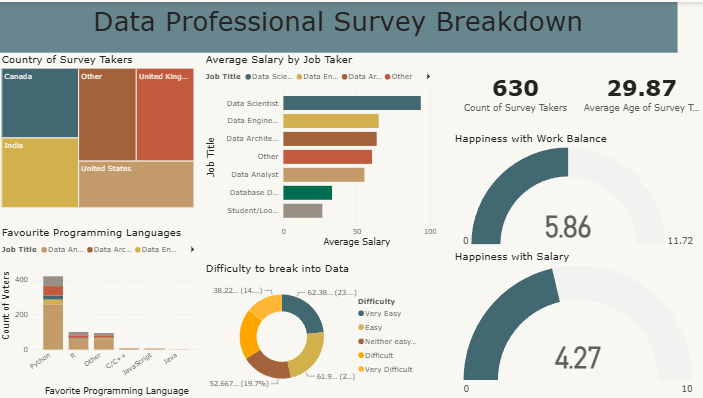

The dashboard page shown, as its layout file describes it:
{"tool":"powerbi","page":{"name":"Page 1","canvas":[1280,720],"ordinal":0},"visuals":[{"type":"textbox","box":[0,0,1232.1,92.3],"z":0},{"type":"card","fields":{"Values":["CountNonNull(Data Professional Survey.Unique ID)"]},"box":[822.5,92.6,230.6,143.4],"z":1000},{"type":"card","fields":{"Values":["Avg(Data Professional Survey.Q10 - Current Age)"]},"box":[1052.7,92.3,227.3,143.6],"z":2000},{"type":"barChart","title":"Average Salary by Job Taker","fields":{"Category":["Data Professional Survey.Q1 - Which Title Best Fits your Current Role?.1"],"Y":["Avg(Data Professional Survey.Average salary.1)"],"Series":["Data Professional Survey.Q1 - Which Title Best Fits your Current Role?.1"]},"box":[370.8,92.3,428.9,357.2],"z":3000},{"type":"columnChart","title":"Favourite Programming Languages","fields":{"Category":["Data Professional Survey.Q5 - Favorite Programming Language.1"],"Y":["CountNonNull(Data Professional Survey.Unique ID)"],"Series":["Data Professional Survey.Q1 - Which Title Best Fits your Current Role?.1"]},"box":[0,406.7,370.8,312.7],"z":4000},{"type":"treemap","title":"Country of Survey Takers","fields":{"Group":["Data Professional Survey.Q11 - Which Country do you live in?.1"],"Values":["Count(Data Professional Survey.Q11 - Which Country do you live in?.1)"]},"box":[0,92.3,358.9,285.4],"z":5000},{"type":"gauge","title":"Happiness with Work Balance","fields":{"Y":["Avg(Data Professional Survey.Q6 - How Happy are you in your Current Position with the following? (Coworkers))"],"MinValue":["Min(Data Professional Survey.Q6 - How Happy are you in your Current Position with the following? (Coworkers))1"]},"box":[822,235.8,458,213.6],"z":6000},{"type":"gauge","title":"Happiness with Salary","fields":{"Y":["Avg(Data Professional Survey.Q6 - How Happy are you in your Current Position with the following? (Salary))"],"MinValue":["Min(Data Professional Survey.Q6 - How Happy are you in your Current Position with the following? (Salary))1"],"MaxValue":["Max(Data Professional Survey.Q6 - How Happy are you in your Current Position with the following? (Salary))2"]},"box":[822,449.5,458,270],"z":7000},{"type":"donutChart","title":"Difficulty to break into Data","fields":{"Category":["Data Professional Survey.Q7 - How difficult was it for you to break into Data?"],"Y":["Avg(Data Professional Survey.Average salary.1)"]},"box":[370.8,471.7,405,247.8],"z":8000}]}

Visuals, with their boxes in screenshot pixels (x1, y1, x2, y2), scaled from the page's 1280x720 canvas onto the 703x398 screenshot:
textbox: 0,0,677,51
card - CountNonNull(Data Professional Survey.Unique ID): 452,51,578,130
card - Avg(Data Professional Survey.Q10 - Current Age): 578,51,702,130
"Average Salary by Job Taker" barChart: 204,51,439,248
"Favourite Programming Languages" columnChart: 0,225,204,397
"Country of Survey Takers" treemap: 0,51,197,209
"Happiness with Work Balance" gauge: 451,130,702,248
"Happiness with Salary" gauge: 451,248,702,397
"Difficulty to break into Data" donutChart: 204,261,426,397
